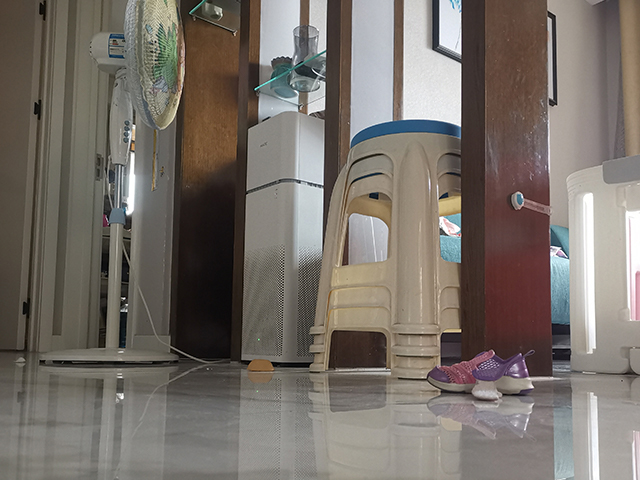stool: (307, 119, 463, 381)
wire: (105, 154, 230, 365)
